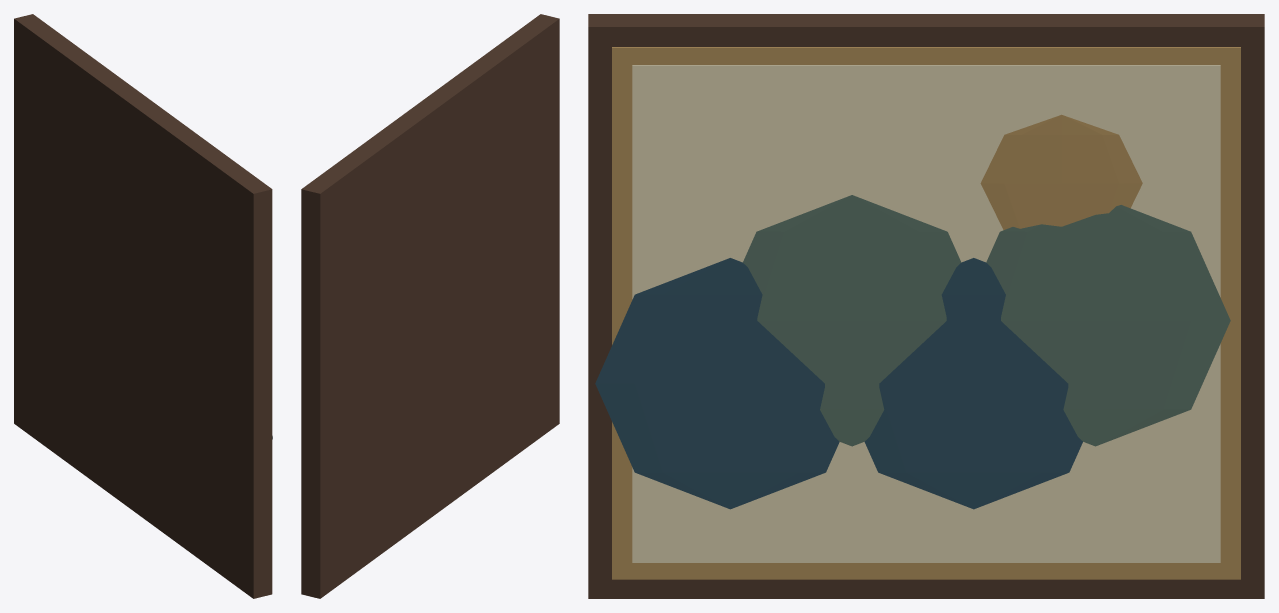
File: LP_Exhibition_WallArtEast.fbx
3 renders of one model, left to right at view 1: azimuth 30°, elevation 25°; view 2: azimuth 150°, elevation 25°; view 3: azimuth 270°, elevation 25°, orthographic. The views are drawn at different scales.
Parts seen in each view (by area): view 1: Walnut; view 2: Walnut; view 3: WarmIvory, M_Museum_DeepBlue, SageUpholstery, Walnut, AgedBrass.
Part boxes in pixels (box(x1,y1,x2,y2)): Walnut: box(14, 14, 272, 598); Walnut: box(301, 14, 559, 598); WarmIvory: box(632, 65, 1220, 562); M_Museum_DeepBlue: box(595, 258, 1082, 509); SageUpholstery: box(743, 195, 1230, 446); Walnut: box(588, 14, 1264, 598); AgedBrass: box(612, 47, 1240, 579).
Size of the model in its own units: 8 by 140 by 150.
